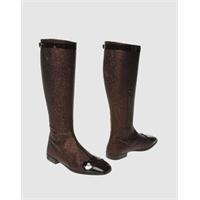shoe: (39, 38, 111, 176), (103, 40, 158, 160)
